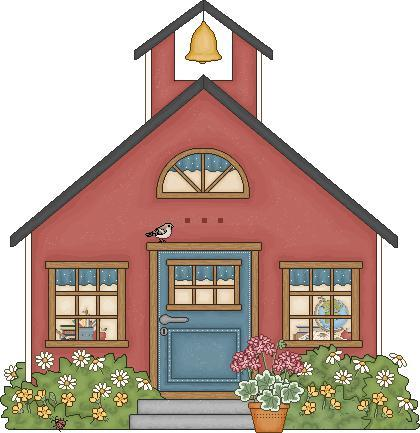bird: (143, 220, 175, 242)
pottedplant: (227, 334, 309, 429)
